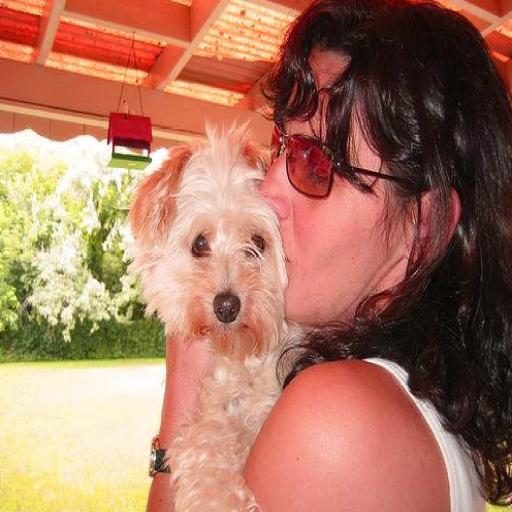dog_face: (133, 152, 288, 360)
